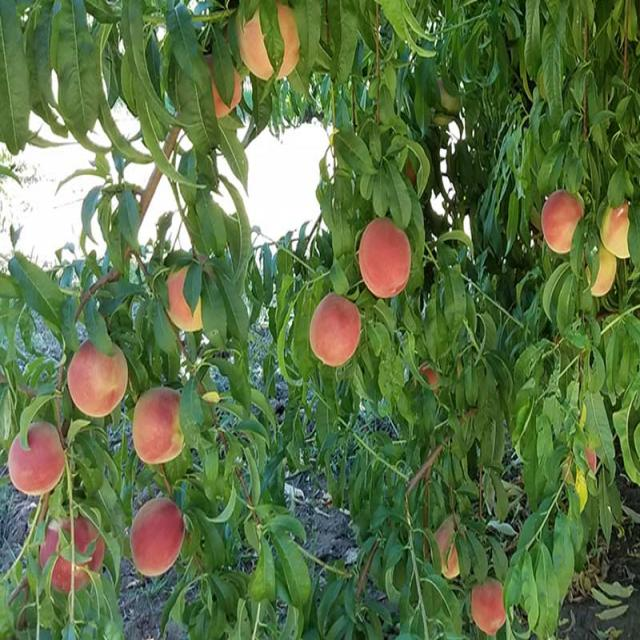Peach: (8, 260, 231, 625)
